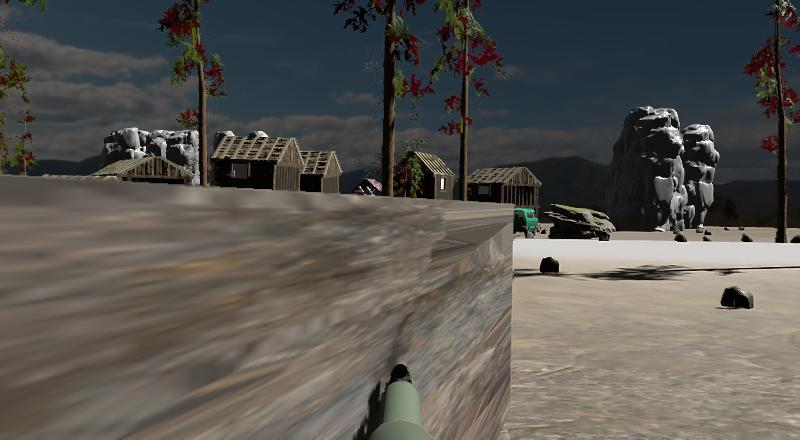House: (213, 136, 303, 189), (469, 166, 541, 208), (398, 151, 454, 200), (301, 151, 342, 192)
car: (513, 207, 539, 238)
